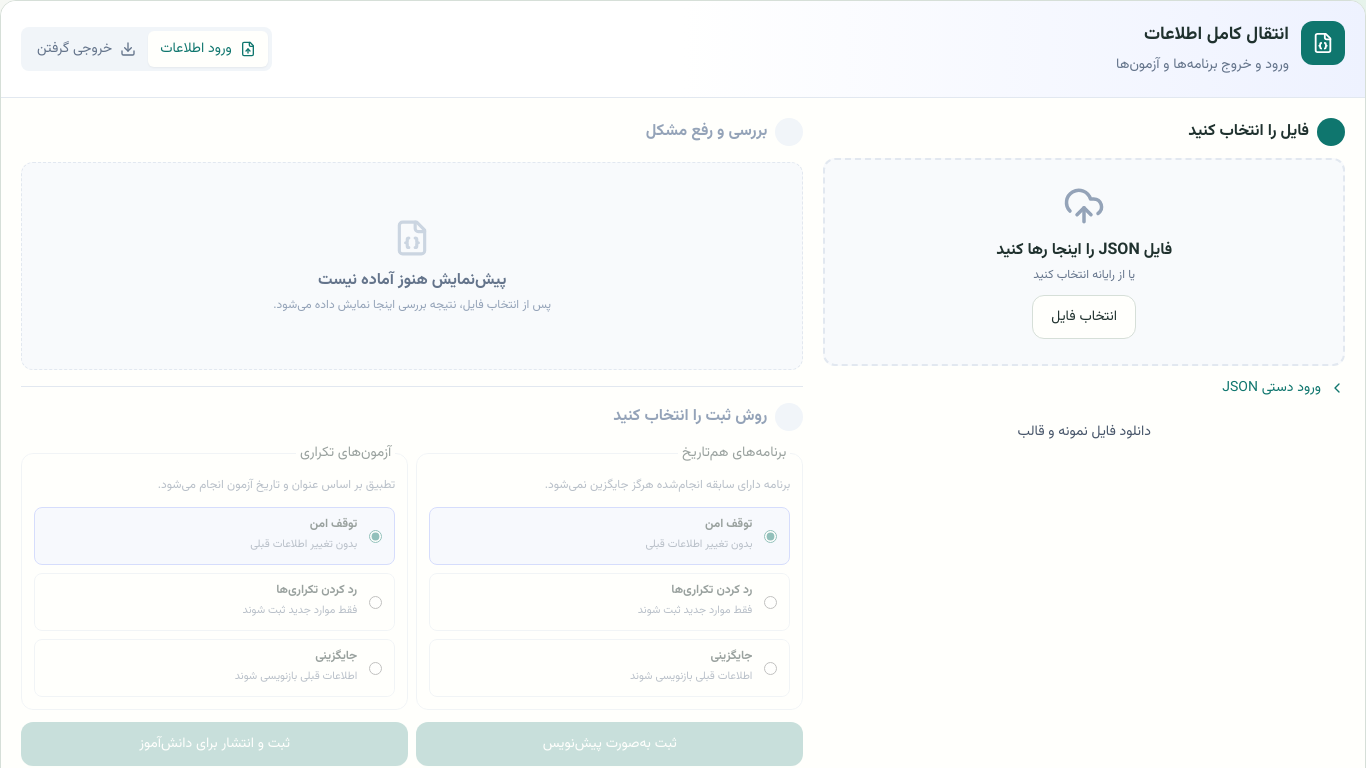
Test: data transfer workspace › keeps export in the same workspace with a readable date summary
The image size is (1366, 768).
Click the button "خروجی گرفتن": (87, 49) [25,31,148,67]
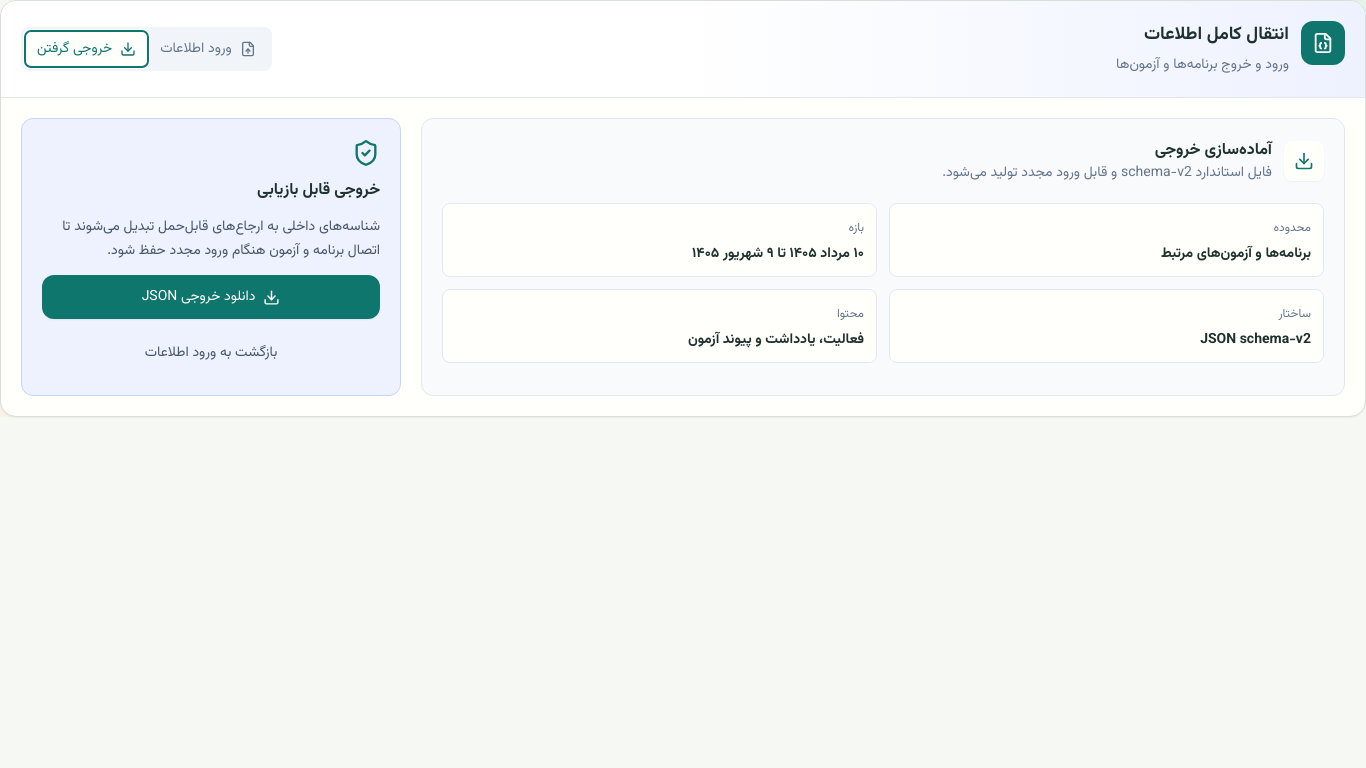
Now the heading "خروجی قابل بازیابی" is shown, box [257,178,380,203]
Now the button "دانلود خروجی JSON" is shown, box [42,275,380,319]
